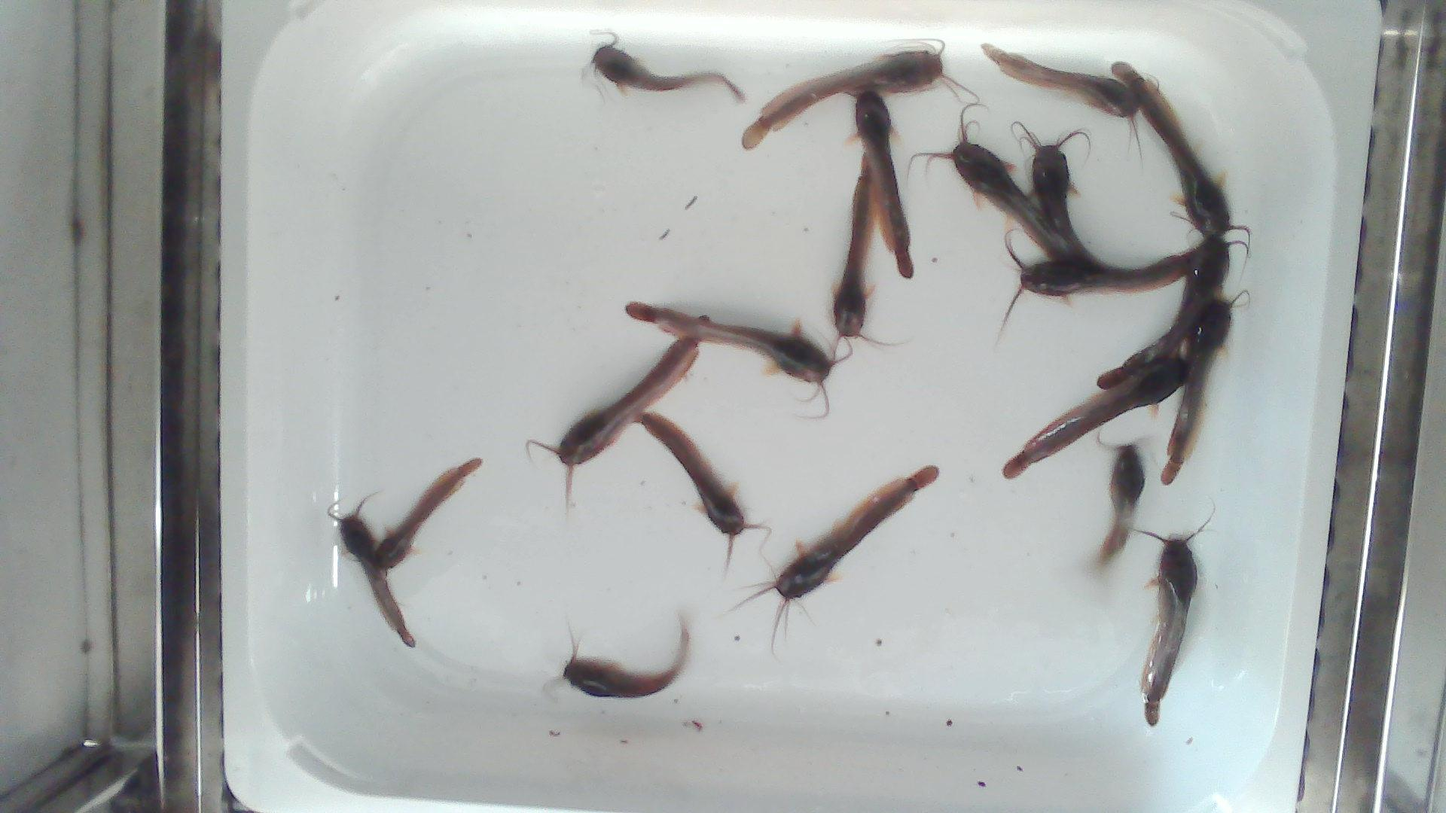lele: (737, 466, 938, 615), (625, 303, 855, 423), (539, 336, 702, 503), (1107, 60, 1252, 237), (1098, 235, 1252, 389), (994, 226, 1185, 349), (1004, 356, 1188, 477), (981, 41, 1144, 169), (831, 89, 913, 343), (743, 47, 943, 149), (926, 111, 1067, 253), (639, 413, 762, 574), (1160, 288, 1245, 487), (328, 496, 418, 649), (1009, 119, 1103, 263), (373, 458, 485, 571), (856, 90, 913, 278), (1142, 534, 1197, 724), (563, 622, 689, 698), (591, 41, 744, 100), (1097, 443, 1145, 567)
